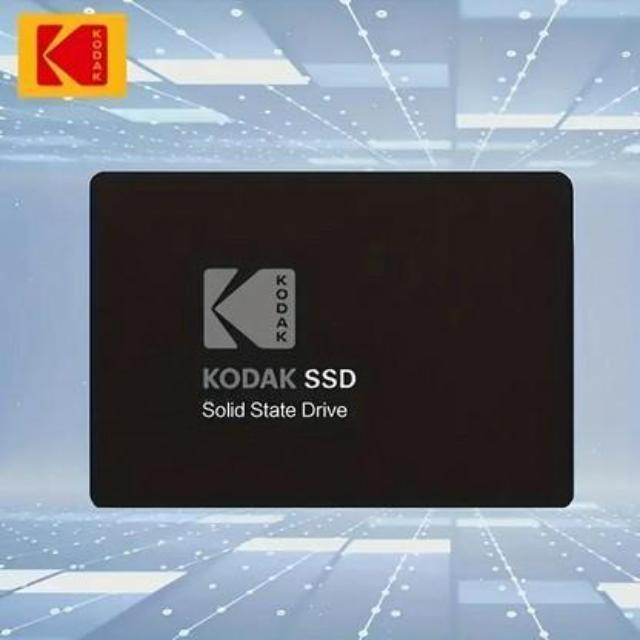DISK: (82, 164, 580, 514)
